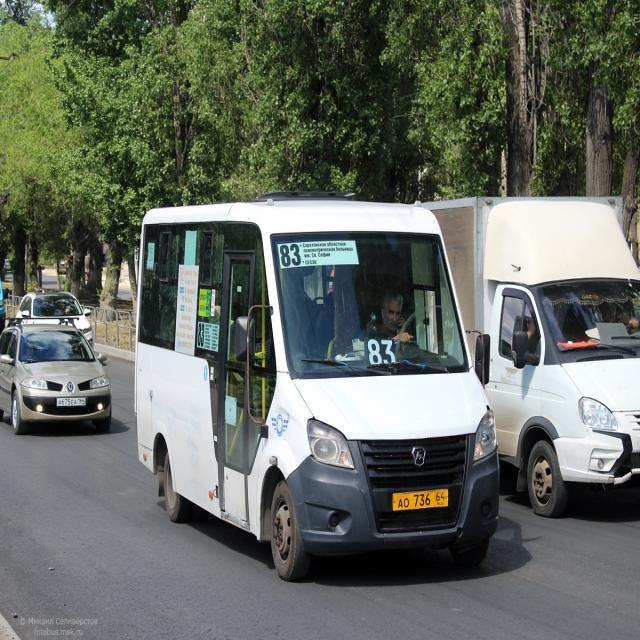number-of-bus: (366, 340, 399, 371), (279, 243, 304, 272), (197, 323, 208, 348)
